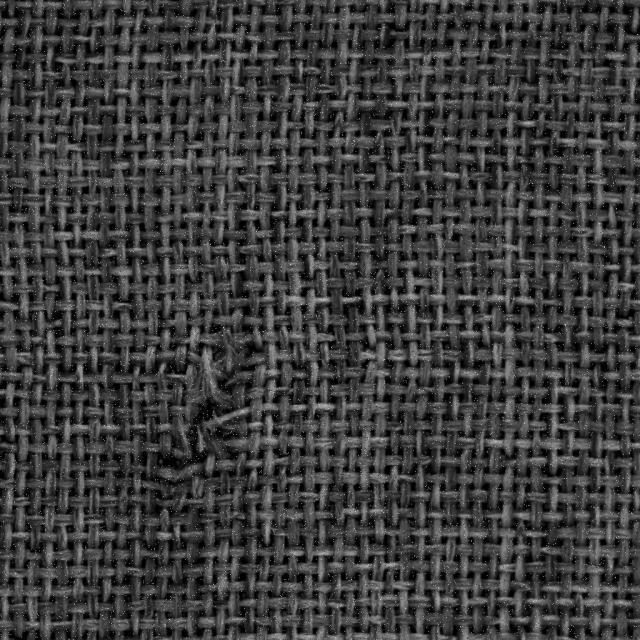seam: (125, 354, 274, 496)
